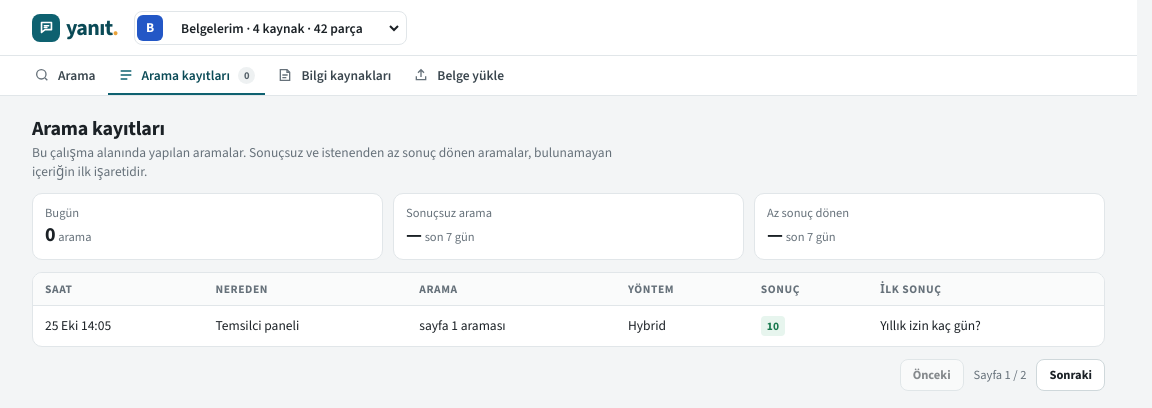
Test case: SearchEventsPage › givenTwoPagesOfEvents_whenClickNext_thenRequestsSecondPage
Expected: the text "Sayfa 1 / 2" is shown, [974,366,1026,384]
Expected: the button "Önceki" is disabled, [900,359,964,391]
Click the button "Sonraki": [1071, 375] box [1036,359,1105,391]
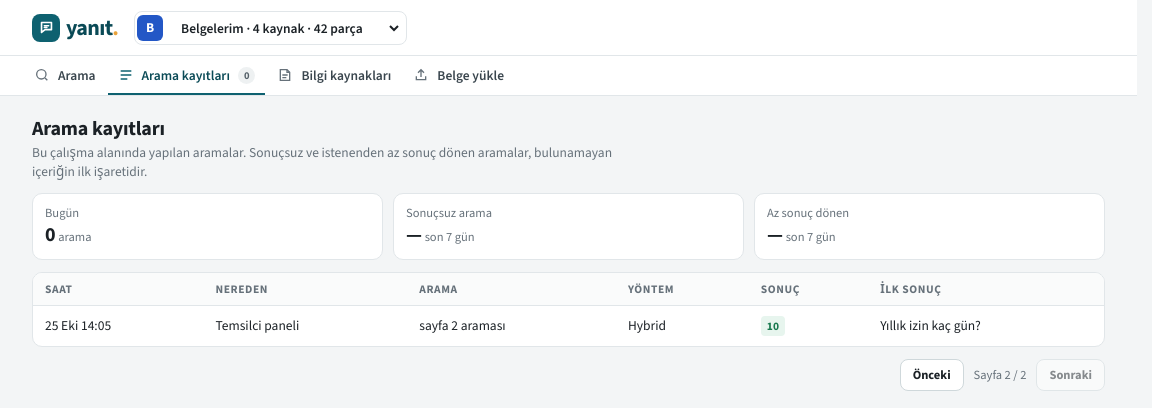
Expected: the text "Sayfa 2 / 2" is shown, [974,366,1026,384]
Expected: the text "sayfa 2 araması" is shown, [407,306,616,346]
Expected: the button "Sonraki" is disabled, [1036,359,1105,391]
